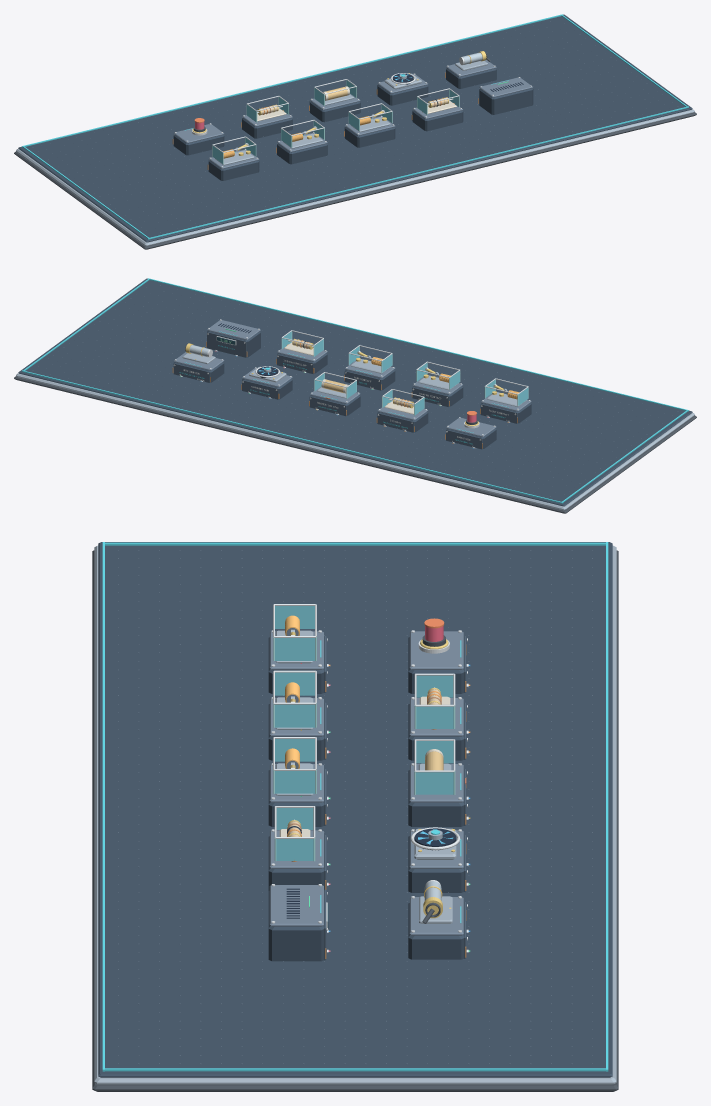
The model's file is Level36_Complete_ArtKit_Showcase.fbx.
3 views of the same model, one above another, from view 1: azimuth 30°, elevation 25°; view 2: azimuth 150°, elevation 25°; view 3: azimuth 270°, elevation 25° (orthographic). The views are drawn at different scales.
Visible parts, largest first — view 1: Model::00_Optional_Showcase_Board__L36_HARDSHELL_BENCH_Matte, Model::00_Optional_Showcase_Board__L36_HARDSHELL_BENCH_Satin, Model::00_Optional_Showcase_Board__L36_HARDSHELL_BENCH_BaseR, Model::00_Optional_Showcase_Board__L36_HARDSHELL_BENCH_BlueE (×2), Model::01_5V_Regulated_Supply__L36_SUPPLY_Chassis, Model::08_Fault_Trip_Contact__L36_FAULT_CONTACT_Chassis, Model::02_10kOhm_Pullup__L36_PULLUP_Chassis, Model::03_NTC_Temperature_Sensor__L36_NTC_SENSOR_Chassis, Model::04_Cooling_Fan_Contact__L36_FAN_CONTACT_Chassis, Model::06_Heater_Safety_Contact__L36_HEATER_CONTACT_Chassis, Model::05_Cooling_Fan_47Ohm__L36_COOLING_FAN_Chassis, Model::10_Fault_LED_Indicator__L36_FAULT_LED_Chassis (+4 smaller); view 2: Model::00_Optional_Showcase_Board__L36_HARDSHELL_BENCH_Matte, Model::00_Optional_Showcase_Board__L36_HARDSHELL_BENCH_Satin, Model::00_Optional_Showcase_Board__L36_HARDSHELL_BENCH_BaseR, Model::00_Optional_Showcase_Board__L36_HARDSHELL_BENCH_BlueE (×2), Model::01_5V_Regulated_Supply__L36_SUPPLY_Top_Lid, Model::01_5V_Regulated_Supply__L36_SUPPLY_Front_Console_Plat, Model::10_Fault_LED_Indicator__L36_FAULT_LED_Top_Lid, Model::07_Tubular_Heater_100Ohm__L36_HEATER_Front_Console_Pl, Model::08_Fault_Trip_Contact__L36_FAULT_CONTACT_Front_Consol, Model::09_LED_Resistor_330Ohm__L36_FAULT_R_Front_Console_Pla, Model::05_Cooling_Fan_47Ohm__L36_COOLING_FAN_Front_Console_P, Model::10_Fault_LED_Indicator__L36_FAULT_LED_Front_Console_P (+4 smaller); view 3: Model::00_Optional_Showcase_Board__L36_HARDSHELL_BENCH_Matte, Model::00_Optional_Showcase_Board__L36_HARDSHELL_BENCH_Satin, Model::00_Optional_Showcase_Board__L36_HARDSHELL_BENCH_BlueE (×4), Model::00_Optional_Showcase_Board__L36_HARDSHELL_BENCH_BaseR, Model::01_5V_Regulated_Supply__L36_SUPPLY_Top_Lid, Model::01_5V_Regulated_Supply__L36_SUPPLY_Chassis, Model::00_Optional_Showcase_Board__L36_HARDSHELL_BENCH_Tooli, Model::10_Fault_LED_Indicator__L36_FAULT_LED_Top_Lid, Model::03_NTC_Temperature_Sensor__L36_NTC_SENSOR_Chassis, Model::07_Tubular_Heater_100Ohm__L36_HEATER_Chassis, Model::05_Cooling_Fan_47Ohm__L36_COOLING_FAN_Chassis, Model::03_NTC_Temperature_Sensor__L36_NTC_SENSOR_Top_Lid (+11 smaller).
Boxes of the visible parts, x1,y1,x2,y2 form: Model::00_Optional_Showcase_Board__L36_HARDSHELL_BENCH_Matte: (18, 14, 692, 242); Model::00_Optional_Showcase_Board__L36_HARDSHELL_BENCH_Satin: (16, 109, 694, 246); Model::00_Optional_Showcase_Board__L36_HARDSHELL_BENCH_BaseR: (14, 112, 696, 249); Model::00_Optional_Showcase_Board__L36_HARDSHELL_BENCH_BlueE (×2): (22, 14, 688, 239); Model::01_5V_Regulated_Supply__L36_SUPPLY_Chassis: (479, 88, 533, 114); Model::08_Fault_Trip_Contact__L36_FAULT_CONTACT_Chassis: (208, 160, 259, 180); Model::02_10kOhm_Pullup__L36_PULLUP_Chassis: (412, 110, 463, 131); Model::03_NTC_Temperature_Sensor__L36_NTC_SENSOR_Chassis: (446, 68, 496, 88); Model::04_Cooling_Fan_Contact__L36_FAN_CONTACT_Chassis: (345, 127, 395, 147); Model::06_Heater_Safety_Contact__L36_HEATER_CONTACT_Chassis: (277, 143, 327, 164); Model::05_Cooling_Fan_47Ohm__L36_COOLING_FAN_Chassis: (377, 85, 428, 105); Model::10_Fault_LED_Indicator__L36_FAULT_LED_Chassis: (173, 135, 224, 155); Model::00_Optional_Showcase_Board__L36_HARDSHELL_BENCH_Matte: (18, 278, 692, 506); Model::00_Optional_Showcase_Board__L36_HARDSHELL_BENCH_Satin: (16, 373, 694, 510); Model::00_Optional_Showcase_Board__L36_HARDSHELL_BENCH_BaseR: (14, 376, 696, 513); Model::00_Optional_Showcase_Board__L36_HARDSHELL_BENCH_BlueE (×2): (22, 278, 688, 503); Model::01_5V_Regulated_Supply__L36_SUPPLY_Top_Lid: (207, 320, 260, 339); Model::01_5V_Regulated_Supply__L36_SUPPLY_Front_Console_Plat: (207, 332, 246, 357); Model::10_Fault_LED_Indicator__L36_FAULT_LED_Top_Lid: (446, 418, 496, 436); Model::07_Tubular_Heater_100Ohm__L36_HEATER_Front_Console_Pl: (309, 396, 346, 416); Model::08_Fault_Trip_Contact__L36_FAULT_CONTACT_Front_Consol: (480, 404, 517, 423); Model::09_LED_Resistor_330Ohm__L36_FAULT_R_Front_Console_Pla: (377, 413, 414, 432); Model::05_Cooling_Fan_47Ohm__L36_COOLING_FAN_Front_Console_P: (242, 380, 278, 399); Model::10_Fault_LED_Indicator__L36_FAULT_LED_Front_Console_P: (446, 429, 482, 449); Model::00_Optional_Showcase_Board__L36_HARDSHELL_BENCH_Matte: (98, 542, 612, 1077); Model::00_Optional_Showcase_Board__L36_HARDSHELL_BENCH_Satin: (94, 545, 616, 1084); Model::00_Optional_Showcase_Board__L36_HARDSHELL_BENCH_BlueE (×4): (102, 542, 608, 1071); Model::00_Optional_Showcase_Board__L36_HARDSHELL_BENCH_BaseR: (92, 550, 618, 1091); Model::01_5V_Regulated_Supply__L36_SUPPLY_Top_Lid: (269, 885, 323, 926); Model::01_5V_Regulated_Supply__L36_SUPPLY_Chassis: (268, 891, 324, 961); Model::00_Optional_Showcase_Board__L36_HARDSHELL_BENCH_Tooli: (118, 550, 592, 1064); Model::10_Fault_LED_Indicator__L36_FAULT_LED_Top_Lid: (409, 631, 463, 669); Model::03_NTC_Temperature_Sensor__L36_NTC_SENSOR_Chassis: (408, 903, 464, 959); Model::07_Tubular_Heater_100Ohm__L36_HEATER_Chassis: (408, 770, 464, 826); Model::05_Cooling_Fan_47Ohm__L36_COOLING_FAN_Chassis: (408, 836, 464, 892); Model::03_NTC_Temperature_Sensor__L36_NTC_SENSOR_Top_Lid: (409, 897, 463, 935).
Bounding box in the file's own units: 25.45 × 1.55 × 10.5.
